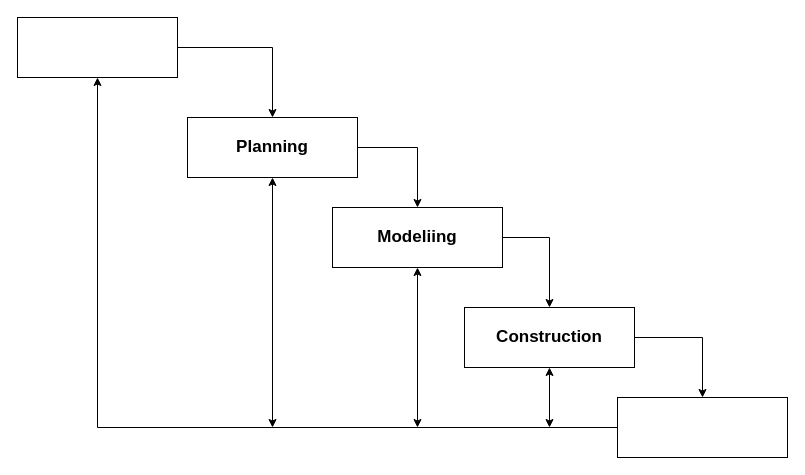
This 805x475 diagram has some shape labels left out. Here are the shapes that lost their labels. From the top down, the centre of each, then its label:
the point at 97,47: Communication
the point at 702,427: Deployment
